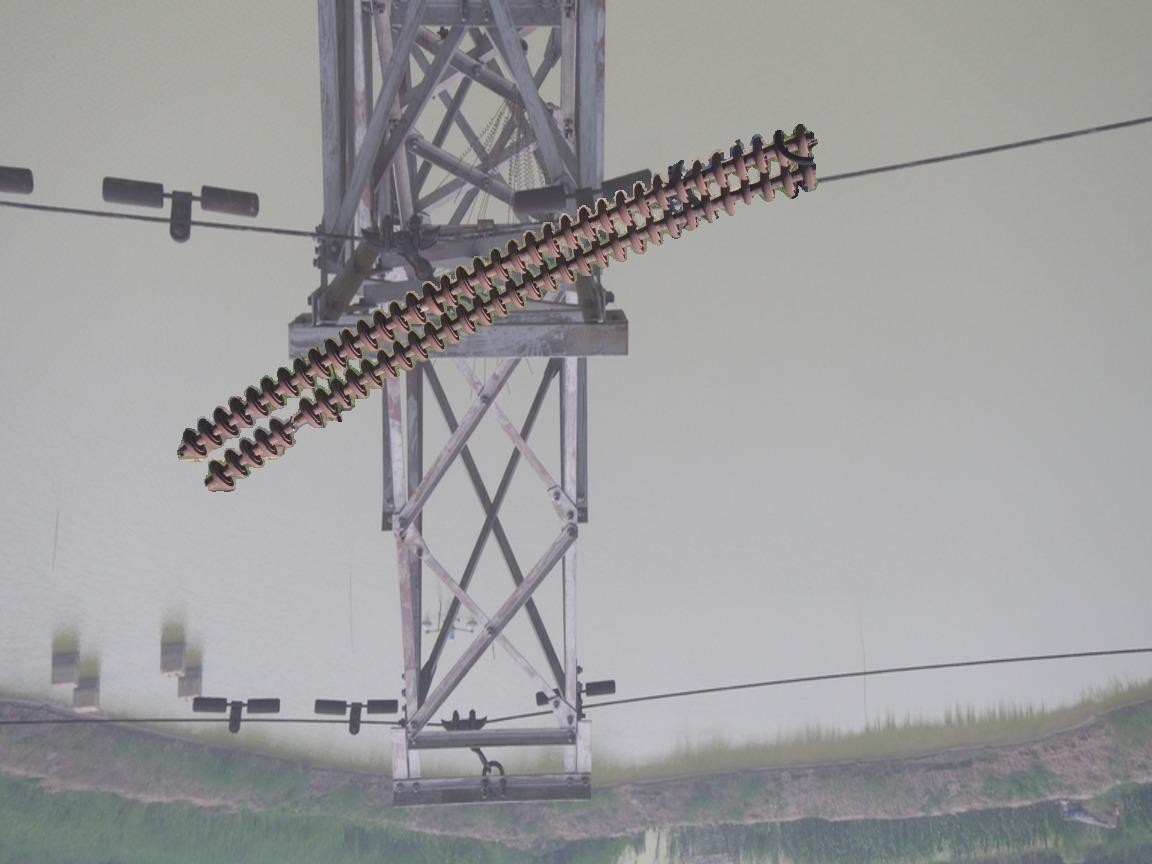insulator: (167, 121, 825, 496)
insulator_stringdrop: (266, 394, 326, 452)
